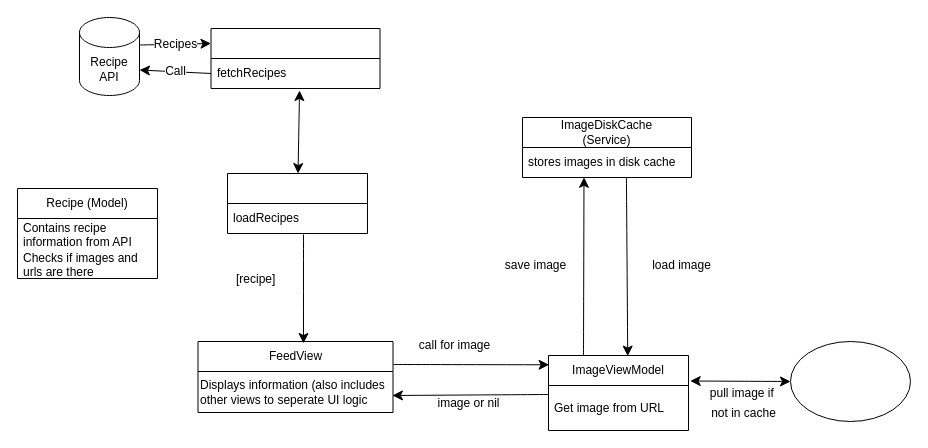
The diagram is 928 pixels wide and 448 high, and some of its shapes have lost their labels. The shapes that lost their labels are listed below. From the top down, each one's box as (x1, y1, x2, y2) in pixels, then its label:
(210, 28, 380, 88): RecipeService
(226, 172, 368, 234): RecipeLoaderViewModel
(790, 340, 910, 422): Image CDN
